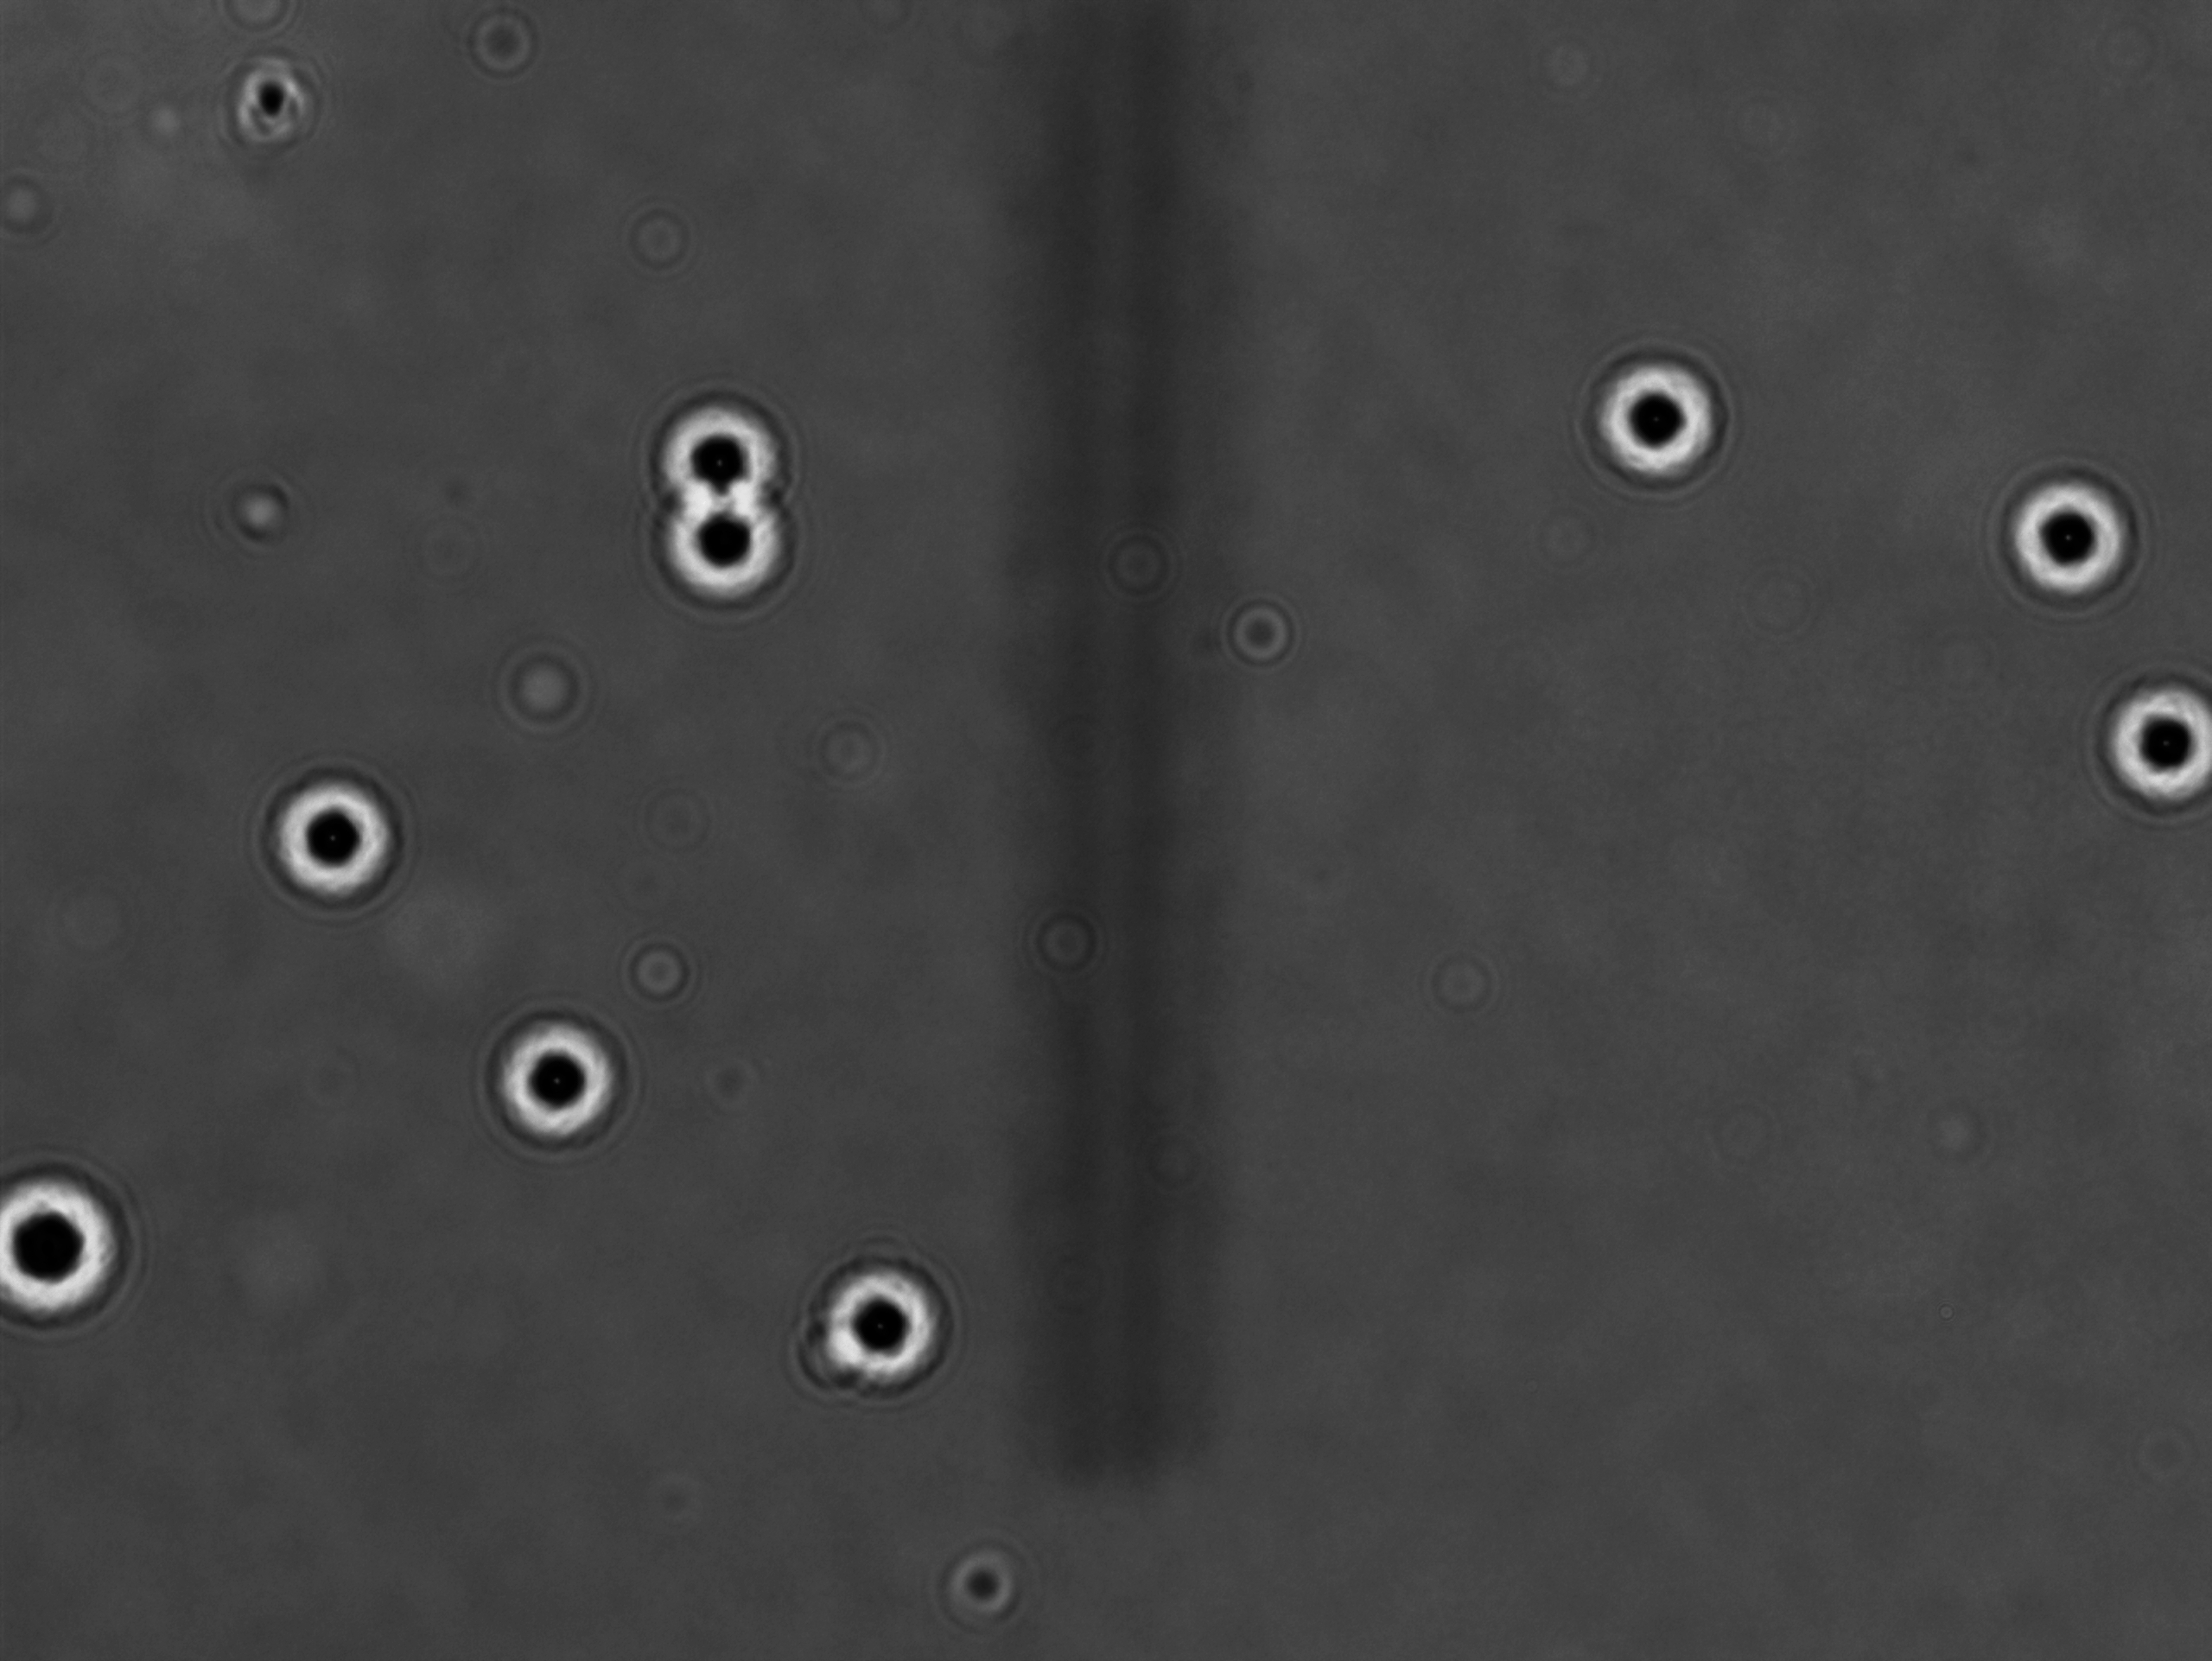depth:-20: (1985, 459, 2151, 621), (473, 1000, 642, 1153), (253, 764, 419, 919), (1570, 328, 1729, 489), (797, 1249, 961, 1399), (635, 379, 795, 522), (640, 487, 792, 632), (2081, 660, 2212, 822)
